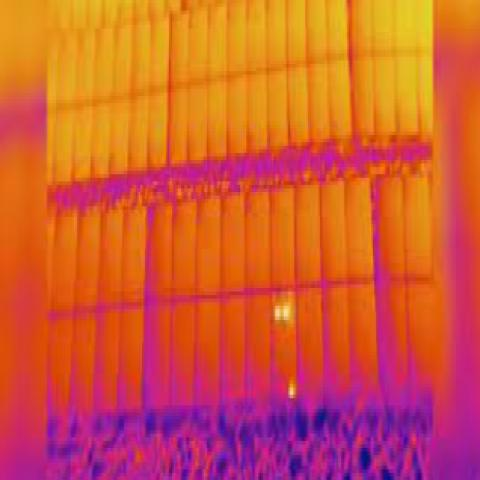fault: (273, 305, 281, 324), (288, 380, 296, 398), (282, 302, 290, 320)
